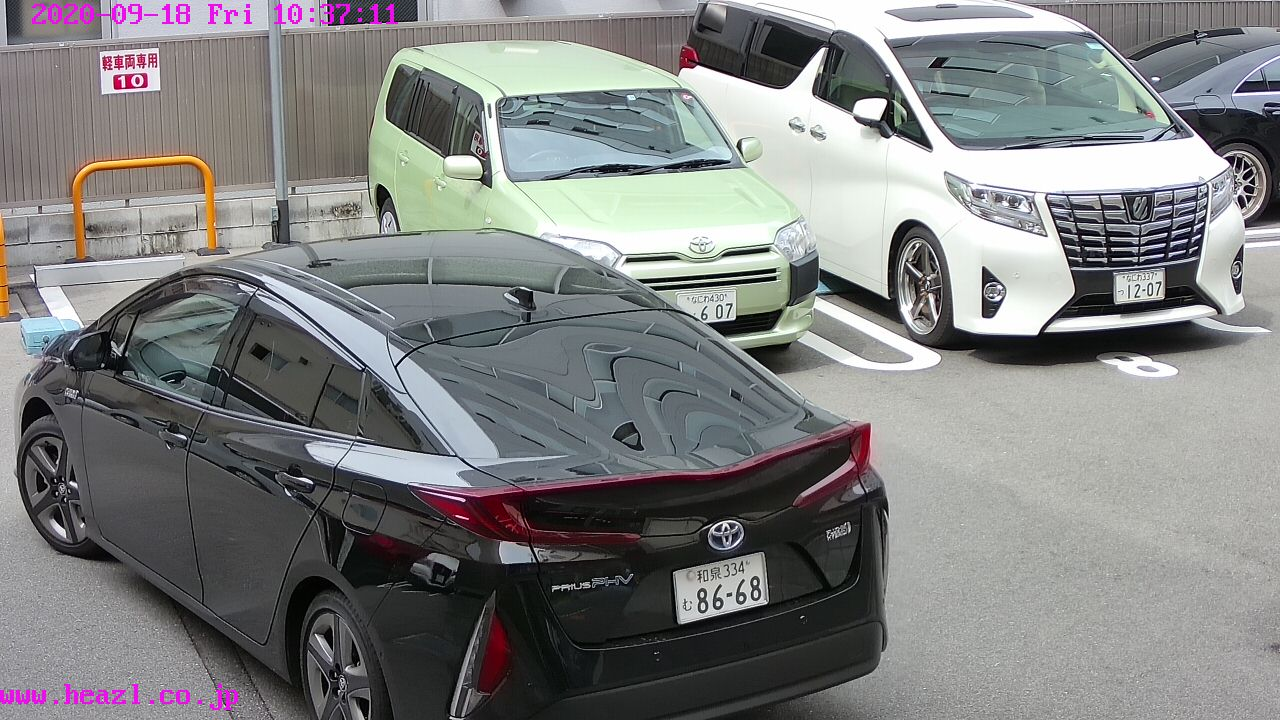number_plate: (677, 562, 770, 612), (1116, 268, 1169, 301), (687, 294, 736, 322)
